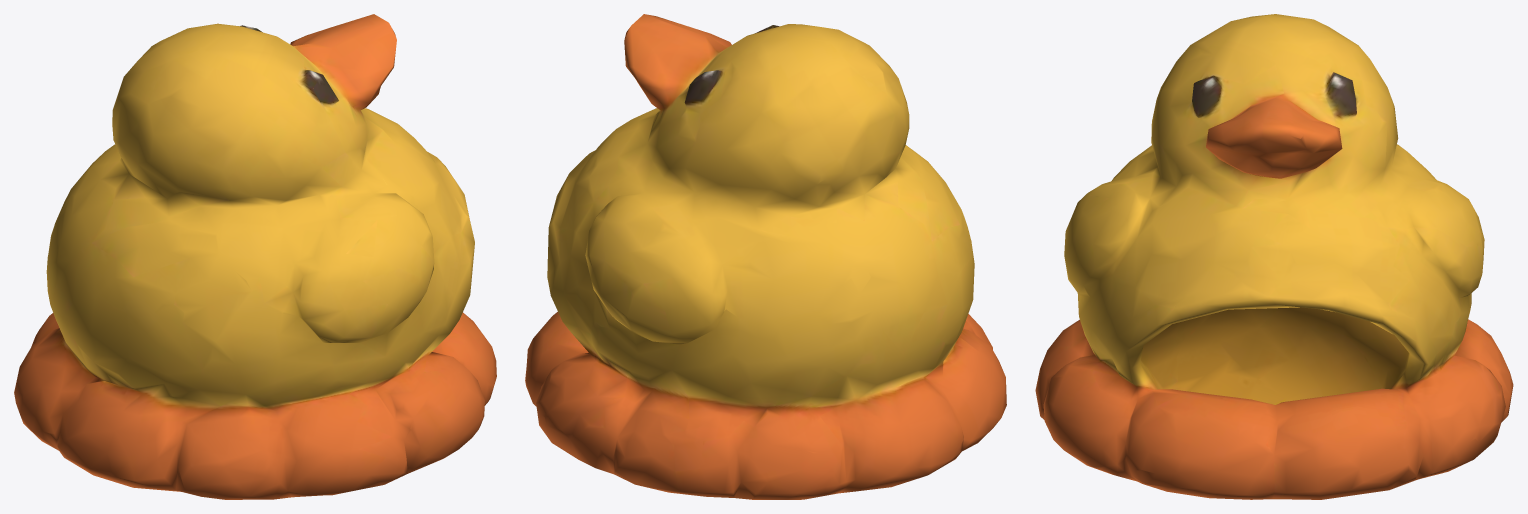
File: hat-duck.glb
3 views of the same model, side by side, from view 1: azimuth 30°, elevation 25°; view 2: azimuth 150°, elevation 25°; view 3: azimuth 270°, elevation 25° (orthographic).
Visible parts, largest first — view 1: tripo_node_250c3af1-562d-493d-b04d-1e6739455b00; view 2: tripo_node_250c3af1-562d-493d-b04d-1e6739455b00; view 3: tripo_node_250c3af1-562d-493d-b04d-1e6739455b00.
Boxes of the visible parts, <box> form: tripo_node_250c3af1-562d-493d-b04d-1e6739455b00: <box>14,14,496,499</box>; tripo_node_250c3af1-562d-493d-b04d-1e6739455b00: <box>525,14,1006,499</box>; tripo_node_250c3af1-562d-493d-b04d-1e6739455b00: <box>1035,14,1513,499</box>.
Bounding box in the file's own units: 0.9687 × 0.8861 × 1.
Materials: 1 (1 with a texture image).
